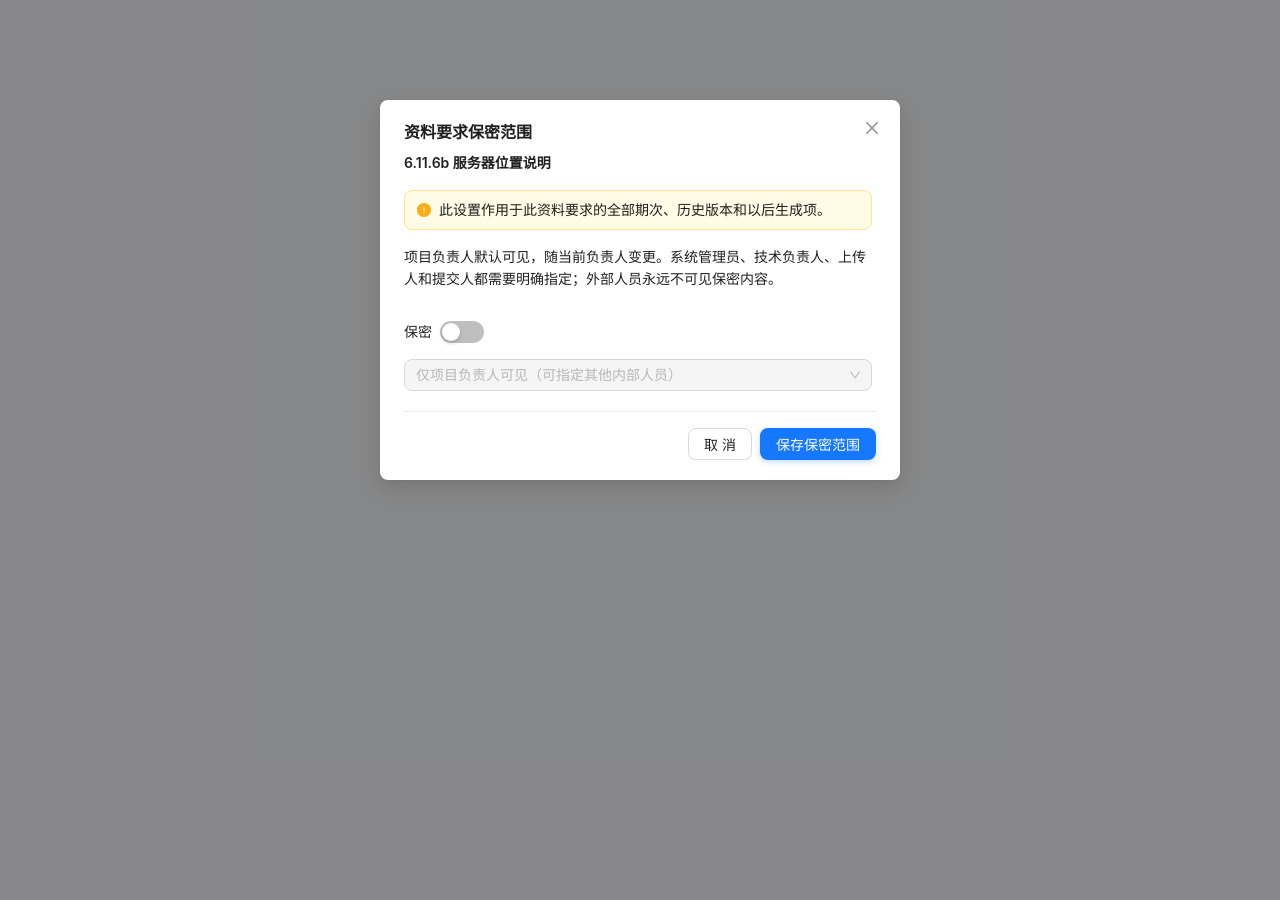
Test: keeps stale-version failures visible and does not silently retry or close
Click the button "保存保密范围" at coordinates (818, 444), box [760, 428, 876, 460]
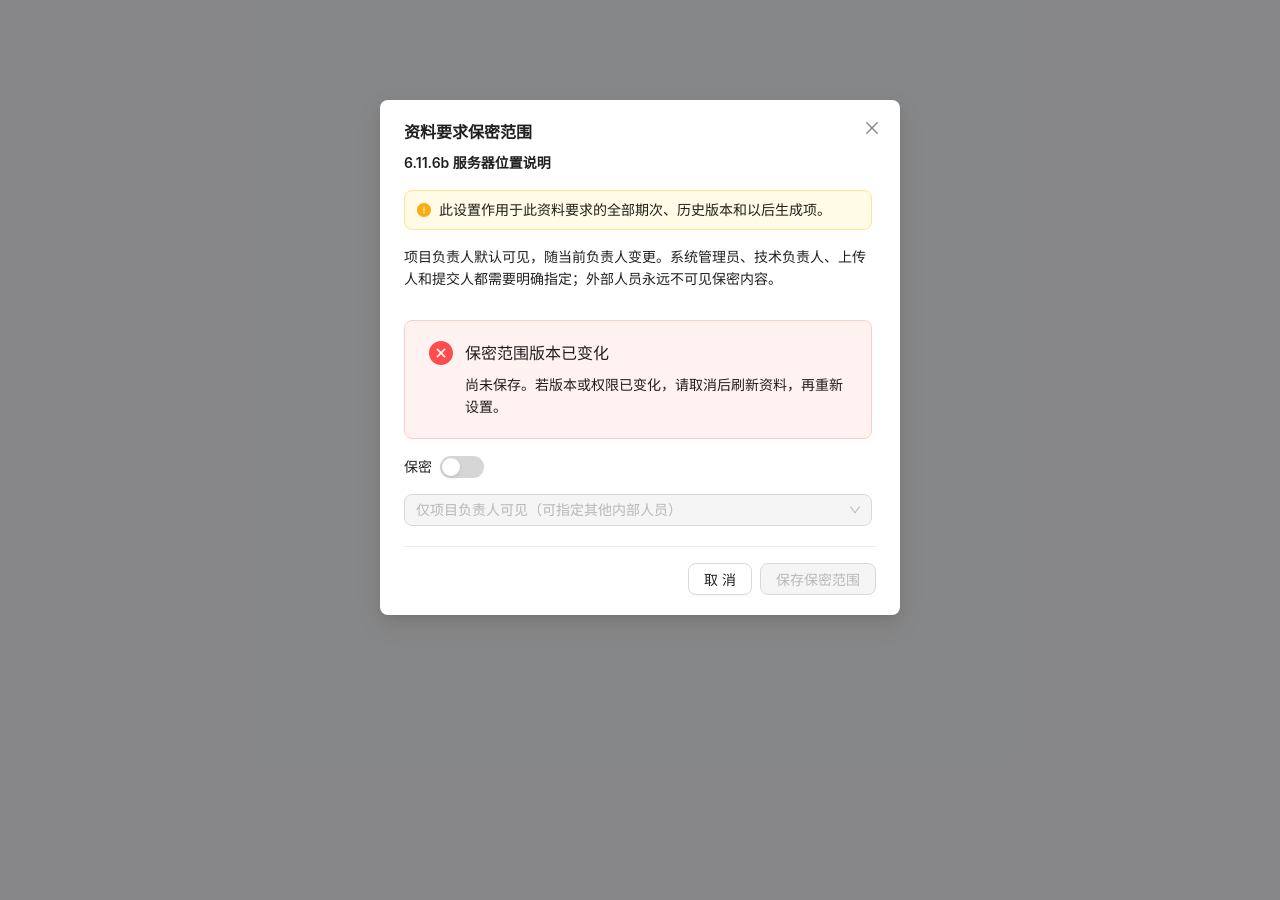
Result: the text "保密范围版本已变化" is shown at [465, 343, 609, 363]
Result: the button "保存保密范围" is disabled at [760, 563, 876, 595]
